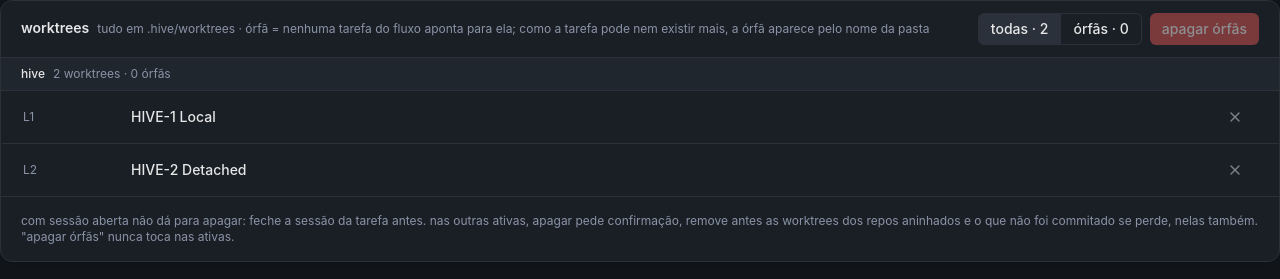
it: with no orphan, the orphans view says so and apagar órfãs is disabled; with no worktree at all, the list says so (#513)
expect the text "HIVE-1 Local" is shown: met, box [131,108,216,125]
expect the button "apagar órfãs" is disabled: met, box [1150,13,1259,45]
Click the radio button labelled "órfãs · 0" at [1102, 29], box [1061,13,1142,45]
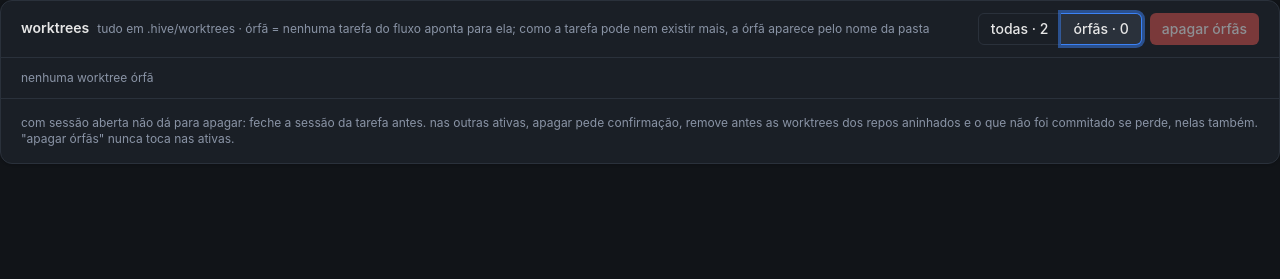
expect the text "nenhuma worktree órfã" is shown: met, box [21,70,154,85]
